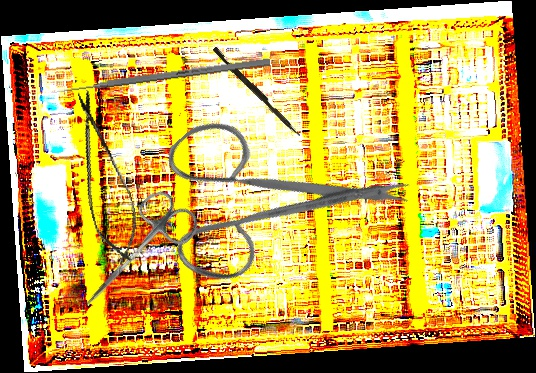Iris Scissors: (120, 43, 419, 339), (65, 183, 204, 329)
Micro Scissor: (60, 85, 148, 270)
Pusher: (50, 57, 271, 97), (210, 46, 304, 138)
